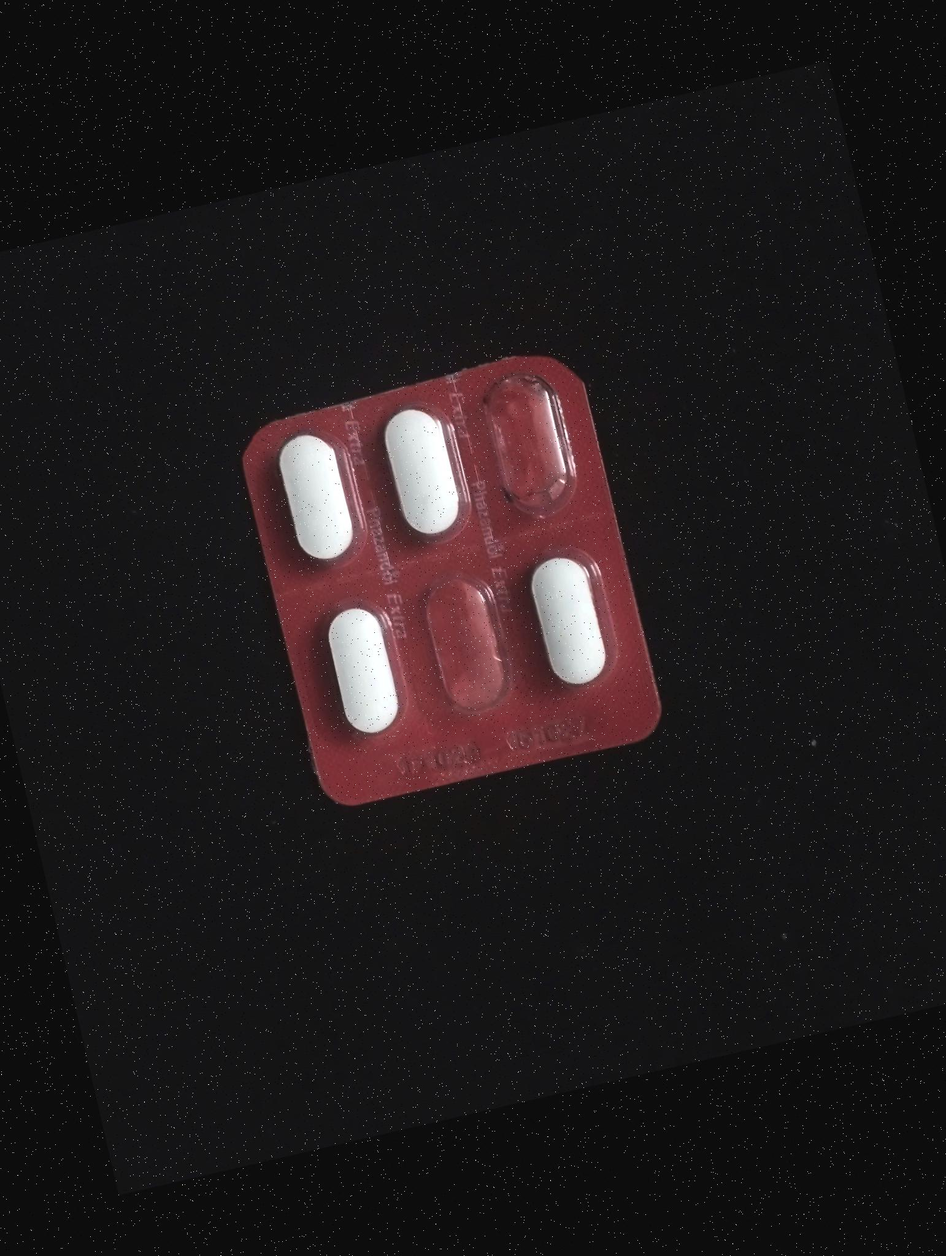Empty: (467, 355, 591, 529), (406, 562, 524, 728)
Full: (363, 394, 474, 551), (261, 424, 367, 572), (309, 597, 410, 746), (517, 548, 613, 698)
